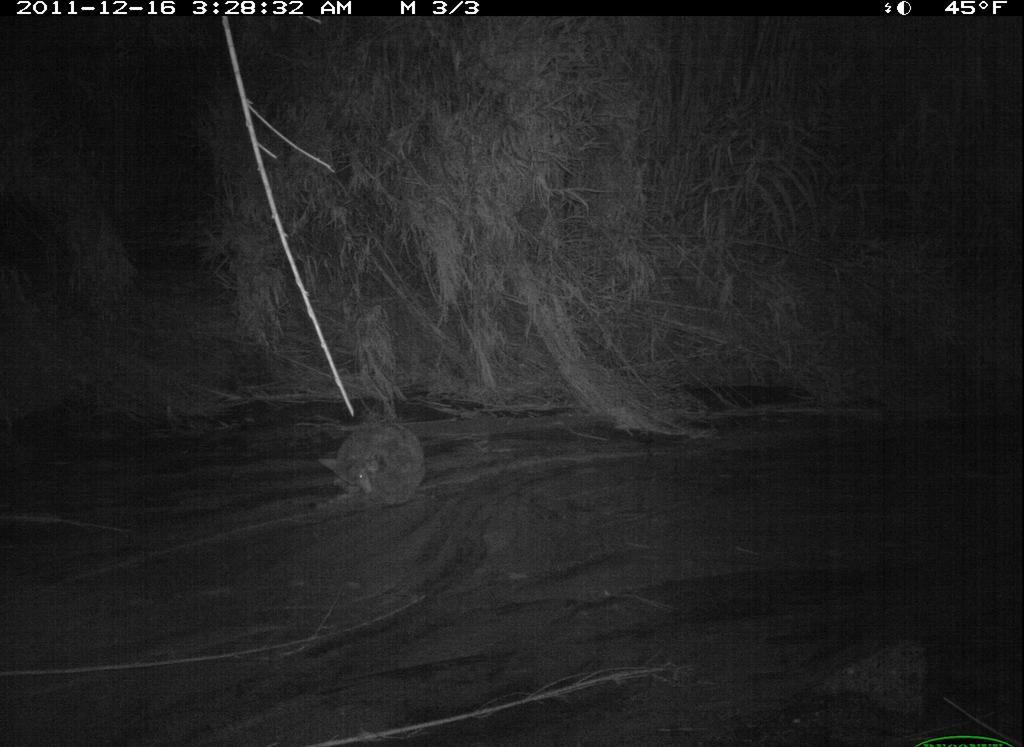coyote: (318, 402, 438, 518)
